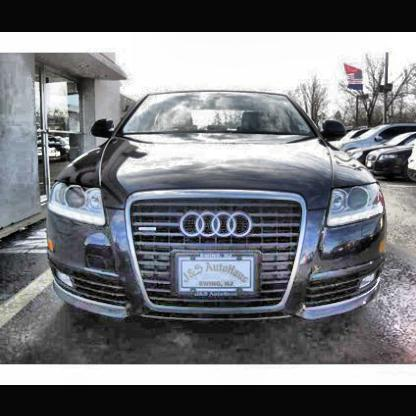Audi S6 Sedan 2011: (44, 87, 390, 332)
